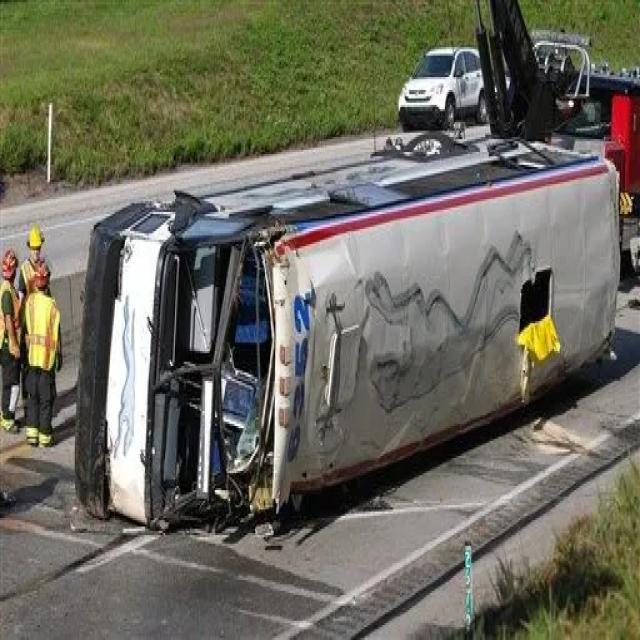turned over vechile: (76, 164, 634, 530)
